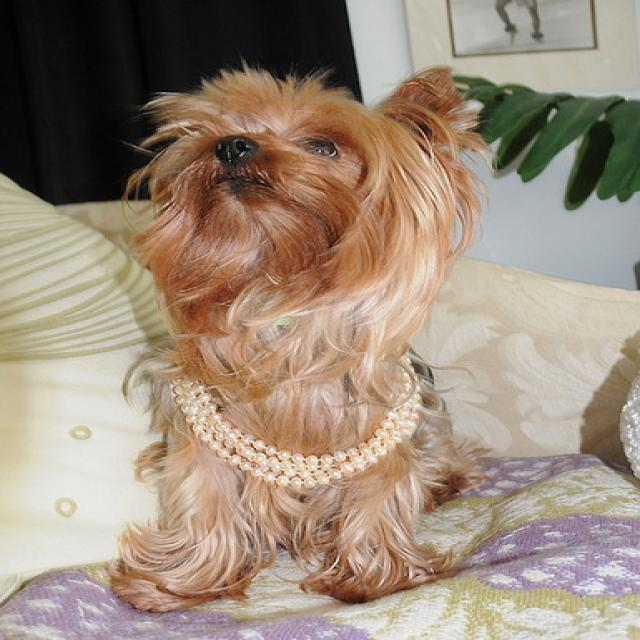dog-yorkshire_terrier: (95, 51, 502, 626)
